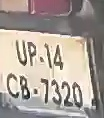0: (71, 82, 84, 110)
1: (43, 41, 54, 72)
2: (60, 79, 74, 111)
3: (48, 78, 62, 108)
4: (52, 43, 66, 72)
7: (40, 76, 51, 106)
B: (19, 74, 32, 104)
C: (4, 70, 21, 105)
P: (27, 42, 39, 69)
U: (13, 36, 28, 68)
